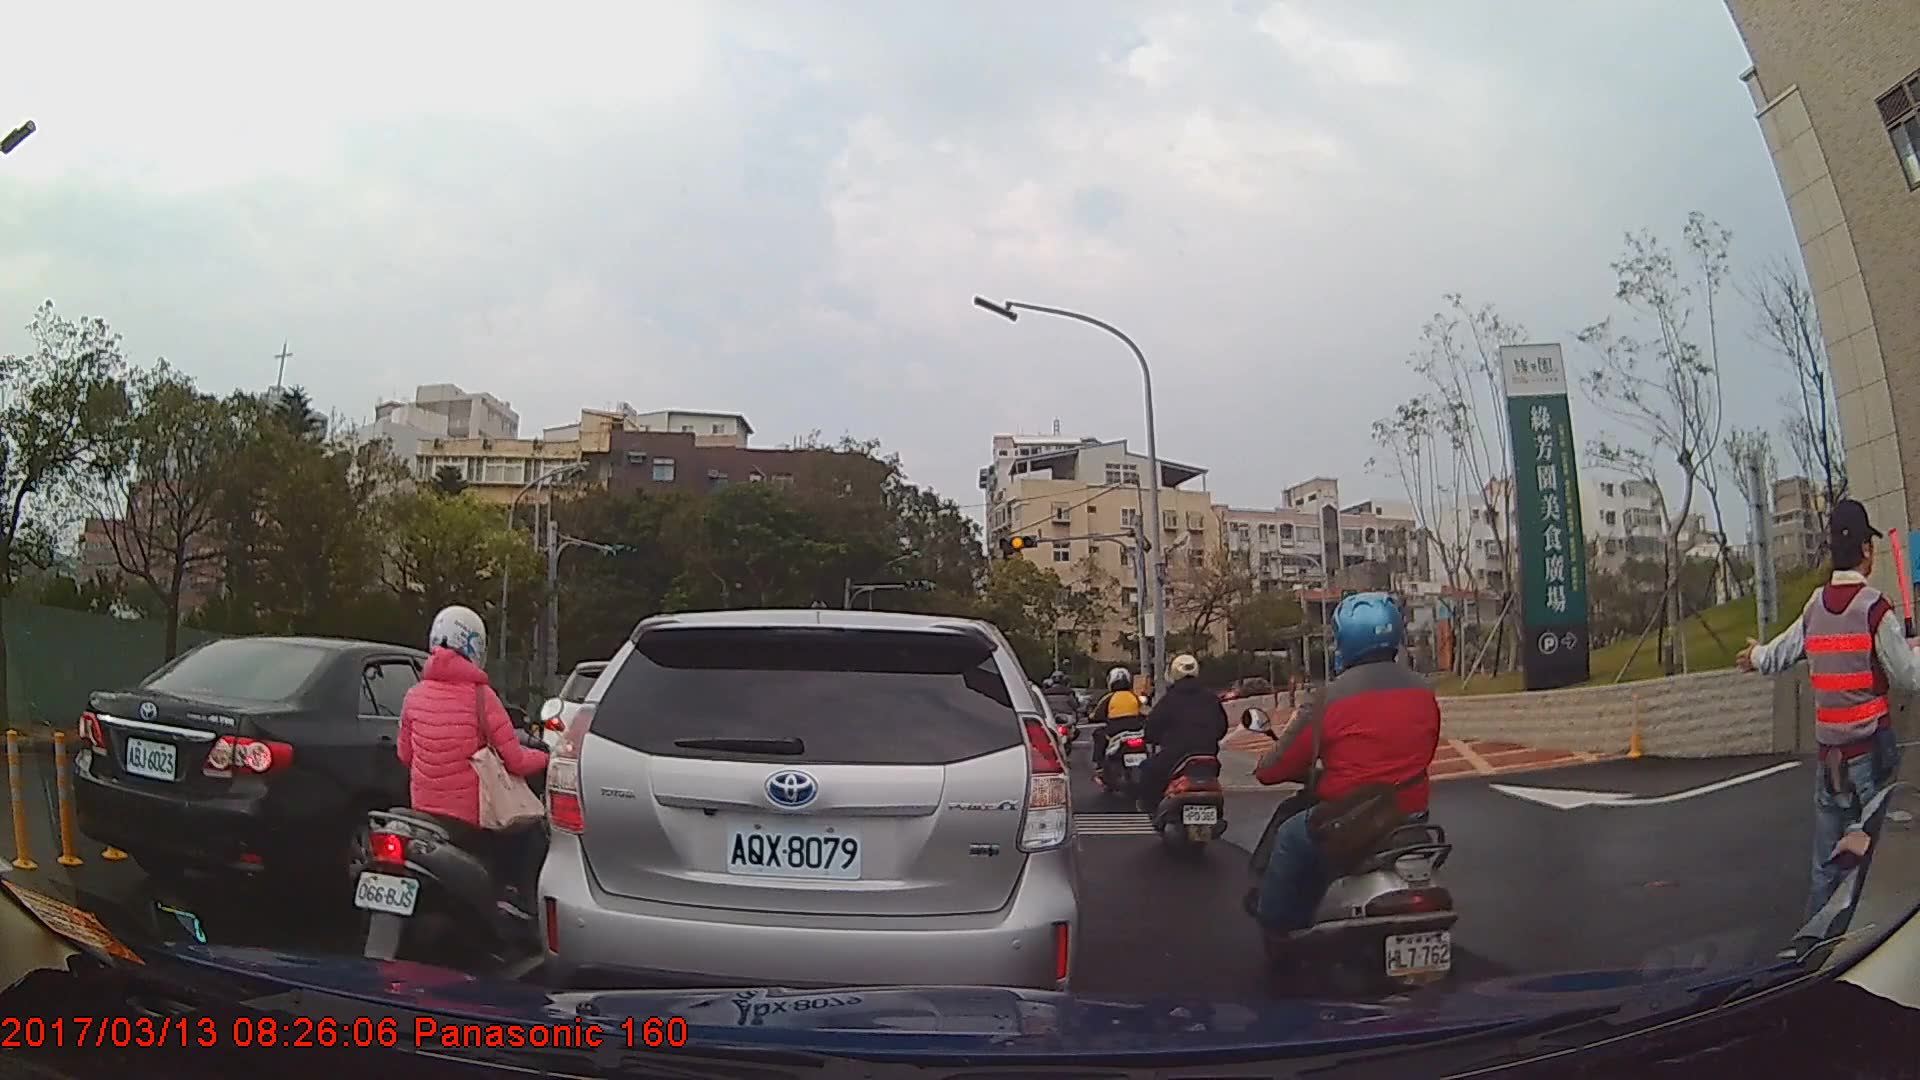pedestrian: (1740, 498, 1920, 979)
rider: (1244, 593, 1465, 1003), (358, 603, 572, 979), (1140, 650, 1228, 857), (1092, 666, 1155, 806), (1040, 671, 1081, 762)
vehicle: (534, 611, 1077, 1018), (73, 633, 557, 907), (1218, 674, 1279, 711)
